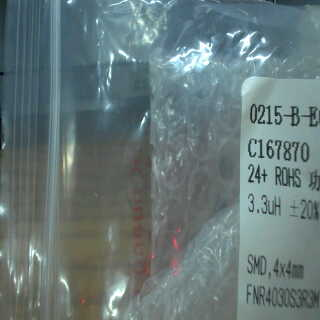3.3uH: (244, 186, 285, 224)
